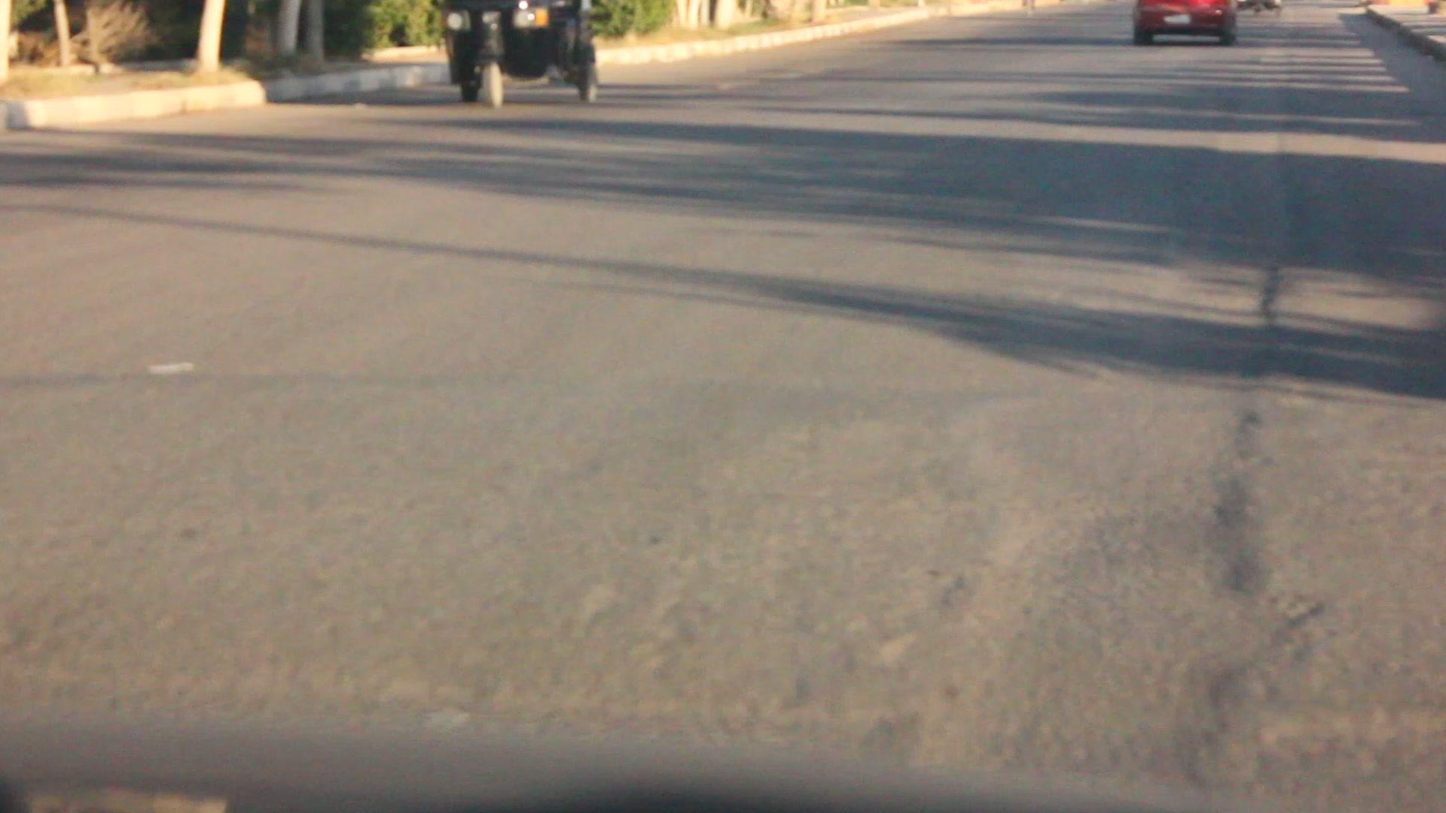Bump: (0, 369, 1445, 808)
